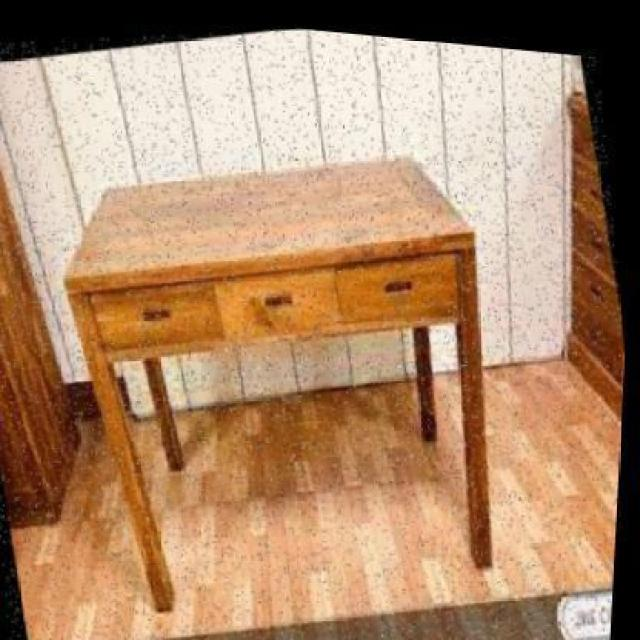tables: (61, 154, 494, 611)
